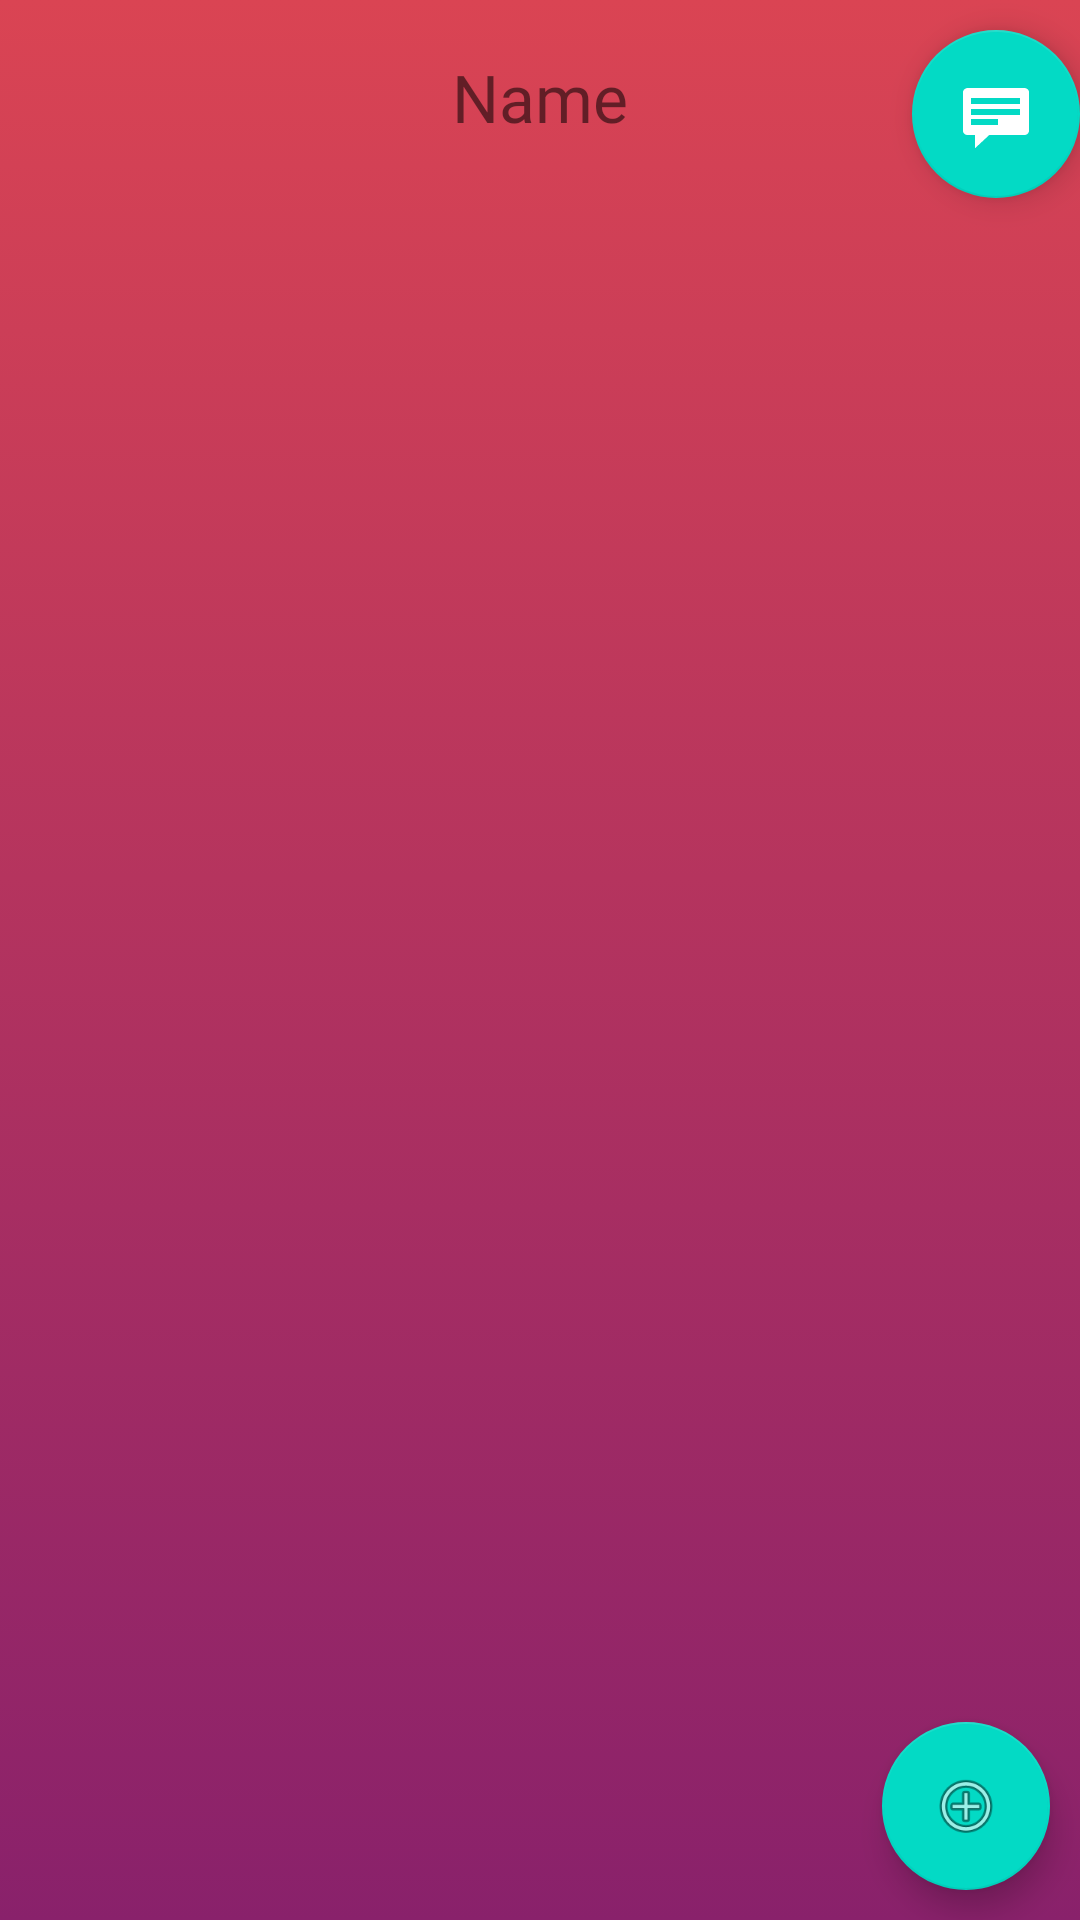

Locate icon controls on the screen. Image size 1080 × 1920, boxes as (x1, y1, x2, y2).
add: (882, 1722, 1050, 1890)
chat: (912, 30, 1080, 198)
